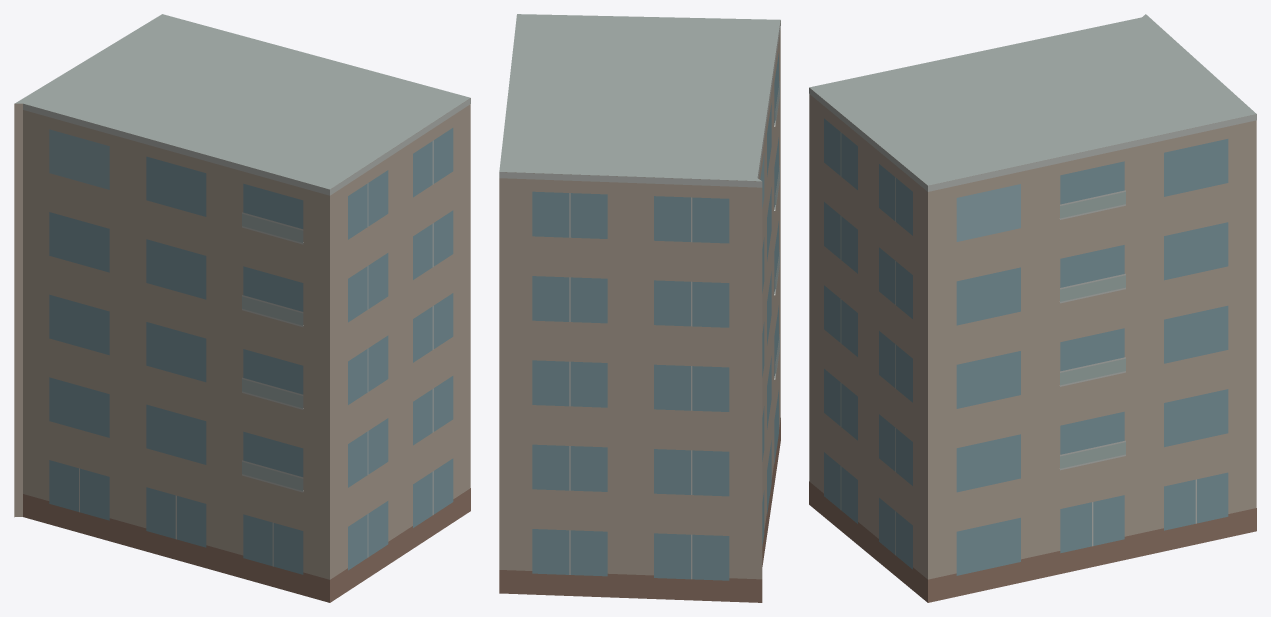
Rendered from survey-upis-32863901.glb.
3 renders of one model, left to right at view 1: azimuth 30°, elevation 25°; view 2: azimuth 150°, elevation 25°; view 3: azimuth 270°, elevation 25°, orthographic.
Visible parts, largest first — view 1: survey-upis-32863901.tmp; view 2: survey-upis-32863901.tmp; view 3: survey-upis-32863901.tmp.
Part boxes in pixels (box(x1,y1,x2,y2)): survey-upis-32863901.tmp: box(14, 14, 470, 602); survey-upis-32863901.tmp: box(499, 14, 780, 602); survey-upis-32863901.tmp: box(809, 14, 1256, 602).
Size of the model in its own units: 14.31 by 16.2 by 15.76.
